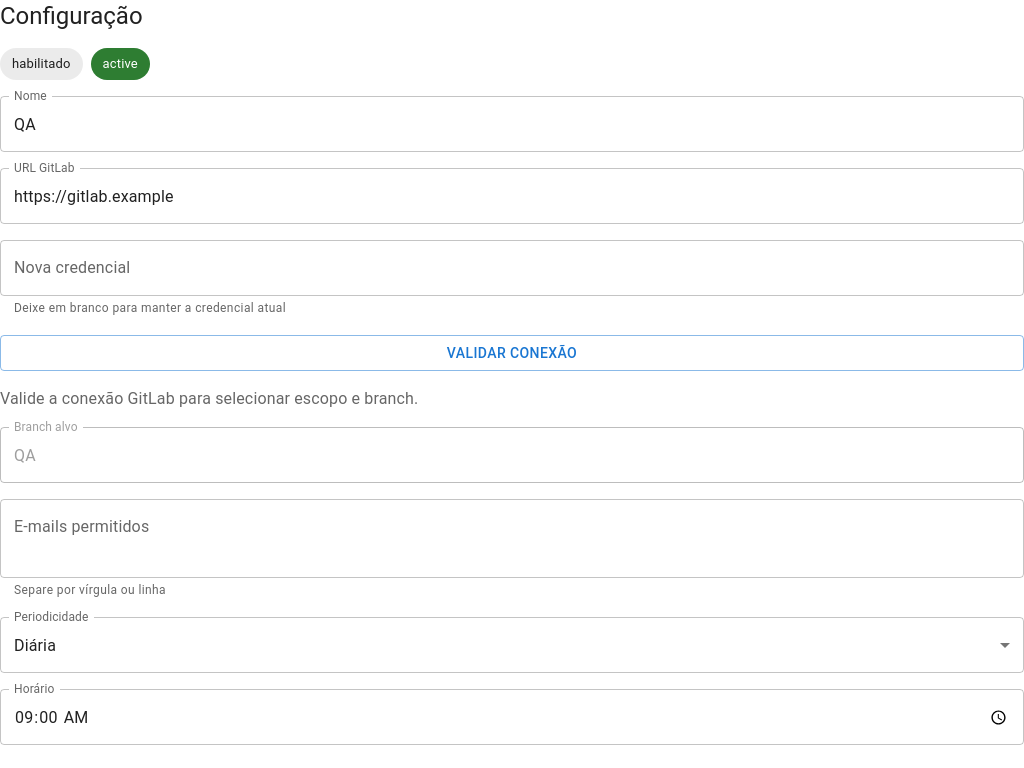
it: configuration flow › validates the connection before enabling scope persistence and defaults to QA
Check: the field labelled "Branch alvo" holds "QA", box 0,427 -> 1023,483
Click the button "Validar conexão": (512, 353) 0,335 -> 1023,371
(page scrolled)
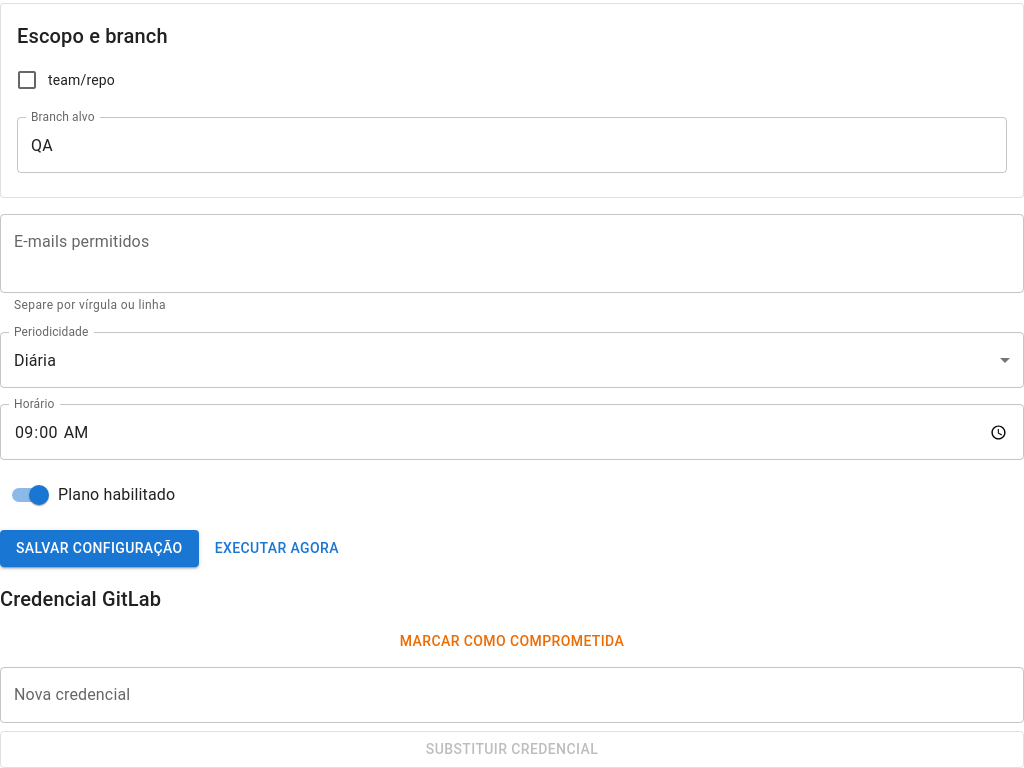
Check: the text "team/repo" is shown, box 48,70 -> 115,90
Check: the button "Salvar configuração" is enabled, box 0,530 -> 199,567
